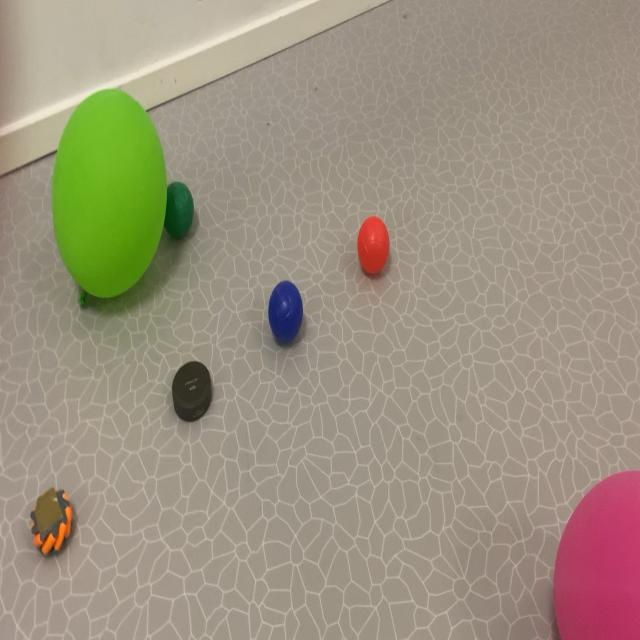7: (335, 190, 432, 346)
green ball: (258, 236, 334, 402)
red ball: (163, 148, 216, 291)
